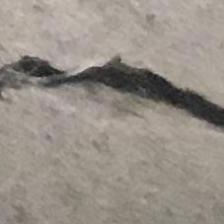Crack: (0, 40, 224, 132)
